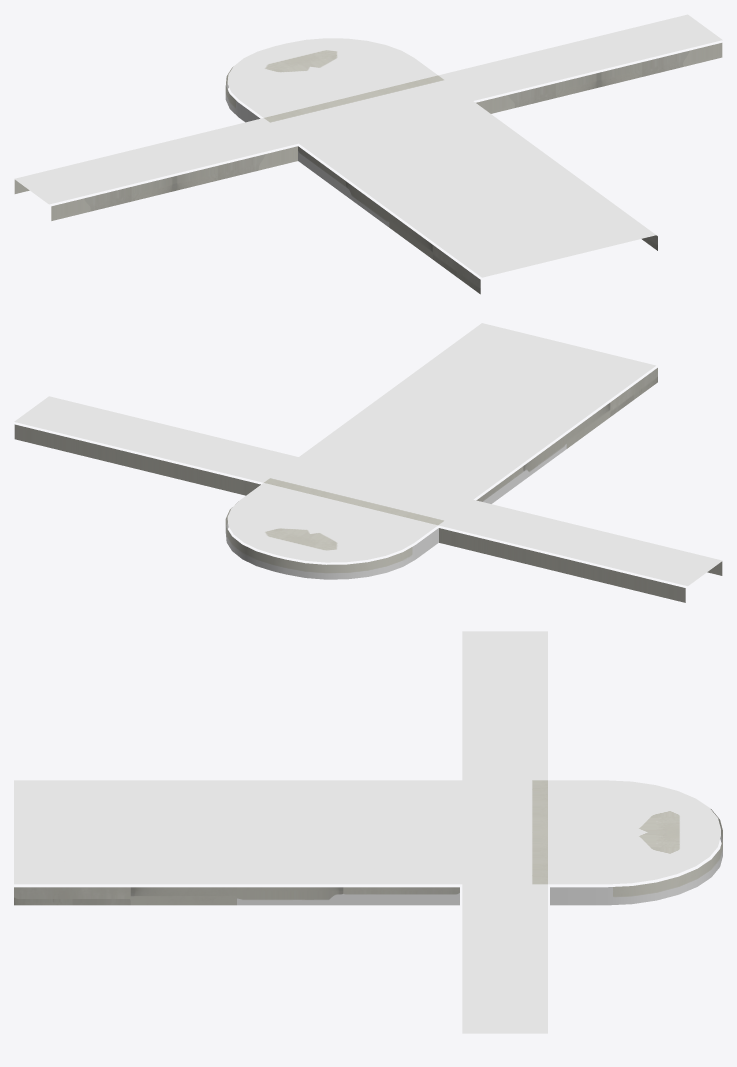
File: Walls.001.fbx
The picture shows the model from 3 angles, top to bottom: view 1: azimuth 30°, elevation 25°; view 2: azimuth 150°, elevation 25°; view 3: azimuth 270°, elevation 25°; orthographic projection. The views are drawn at different scales.
Parts seen in each view (by area): view 1: runway, runway.002; view 2: runway, runway.002; view 3: runway, runway.002.
Boxes of the visible parts, x1,y1,x2,y2 form: runway: (225, 38, 657, 294); runway.002: (14, 14, 722, 220); runway: (225, 323, 657, 579); runway.002: (14, 396, 722, 602); runway: (14, 780, 722, 905); runway.002: (462, 631, 547, 1033).
Size of the model in its own units: 22.79 by 16.98 by 0.5295.
